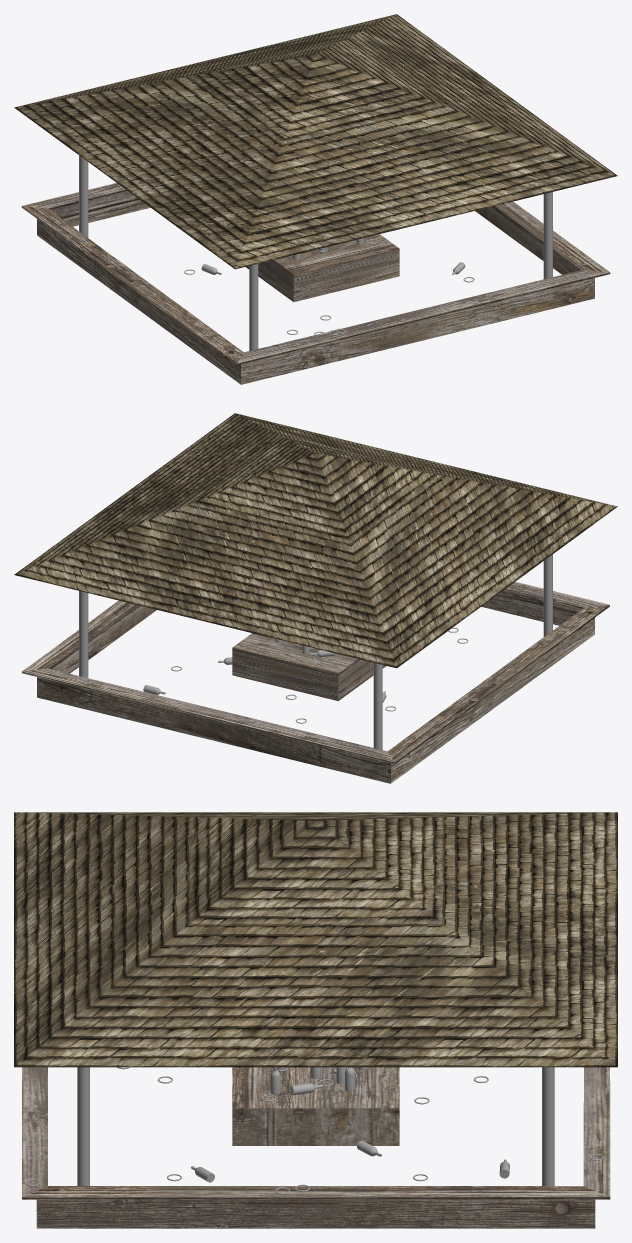
Rendered from ring_toss.fbx.
The picture shows the model from 3 angles, top to bottom: view 1: azimuth 30°, elevation 25°; view 2: azimuth 150°, elevation 25°; view 3: azimuth 270°, elevation 25°; orthographic projection. The views are drawn at different scales.
Parts seen in each view (by area): view 1: pPyramid1, polySurface1, pCube7, polySurface2; view 2: pPyramid1, polySurface1, pCube7, polySurface2; view 3: pPyramid1, polySurface1, pCube7, polySurface2.
Part boxes in pixels (x1,y1,x2,y2): pPyramid1: [14, 14, 617, 269]; polySurface1: [21, 183, 610, 384]; pCube7: [246, 234, 399, 302]; polySurface2: [79, 155, 552, 350]; pPyramid1: [14, 413, 617, 668]; polySurface1: [22, 581, 609, 783]; pCube7: [232, 633, 385, 701]; polySurface2: [79, 554, 552, 749]; pPyramid1: [14, 812, 617, 1067]; polySurface1: [22, 1067, 610, 1228]; pCube7: [232, 1067, 399, 1145]; polySurface2: [77, 1067, 554, 1186].
Bounding box in the file's own units: 650 × 345 × 650.
